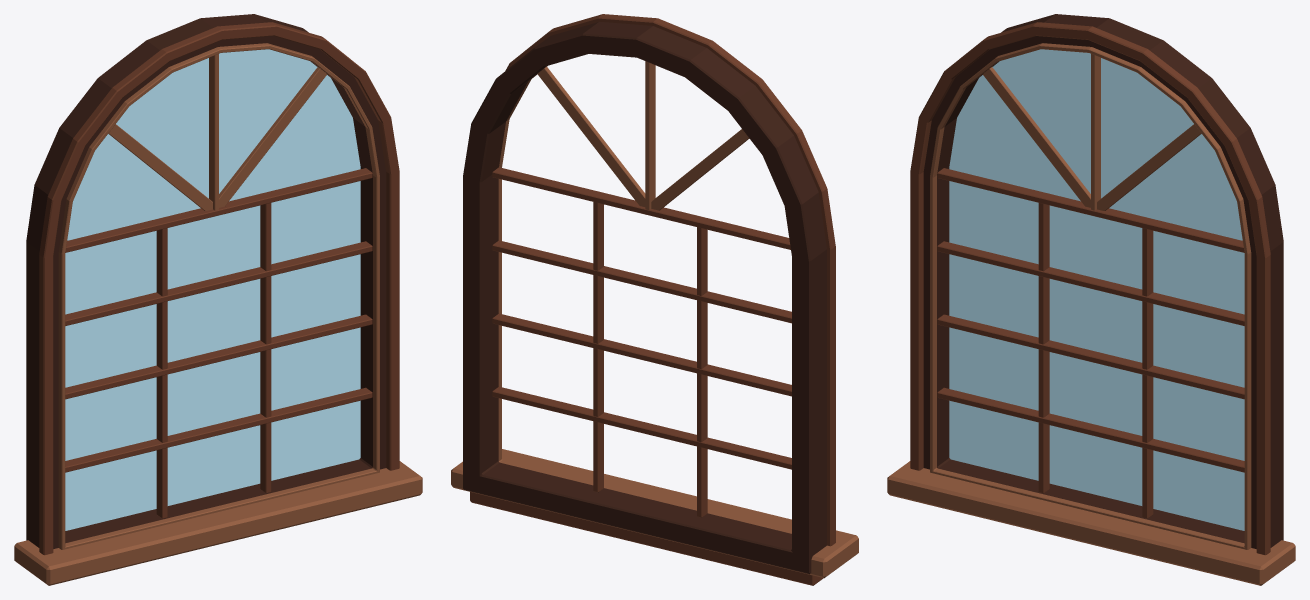
File: window_07.glb
3 renders of one model, left to right at view 1: azimuth 30°, elevation 25°; view 2: azimuth 150°, elevation 25°; view 3: azimuth 330°, elevation 25°, orthographic.
Visible parts, largest first — view 1: Glass, Deep_frame, Raised_moulding, Sill, Inner_bead, Transom_2, Transom_1, Transom_3, Transom_4, Mullion_2, Mullion_1, Fan_ray_1 (+2 smaller); view 2: Deep_frame, Raised_moulding, Sill, Sill_apron, Transom_2, Transom_1, Transom_3, Transom_4, Mullion_2, Mullion_1, Inner_bead, Fan_ray_1 (+2 smaller); view 3: Glass, Deep_frame, Raised_moulding, Sill, Inner_bead, Transom_2, Transom_1, Transom_3, Transom_4, Mullion_1, Mullion_2, Fan_ray_3 (+2 smaller).
Part boxes in pixels (x1,y1,x2,y2): Glass: (65, 49, 360, 530); Deep_frame: (26, 14, 386, 548); Raised_moulding: (39, 22, 399, 555); Sill: (14, 461, 422, 585); Inner_bead: (58, 43, 379, 549); Transom_2: (65, 314, 372, 399); Transom_1: (65, 387, 372, 472); Transom_3: (65, 241, 372, 325); Transom_4: (65, 168, 372, 252); Mullion_2: (260, 203, 271, 493); Mullion_1: (156, 228, 167, 518); Fan_ray_1: (212, 67, 327, 208); Deep_frame: (463, 21, 826, 574); Raised_moulding: (505, 14, 835, 546); Sill: (451, 449, 858, 578); Sill_apron: (470, 492, 823, 585); Transom_2: (492, 313, 791, 396); Transom_1: (492, 386, 791, 469); Transom_3: (492, 240, 791, 323); Transom_4: (492, 167, 790, 249); Mullion_2: (593, 202, 603, 492); Mullion_1: (697, 227, 707, 517); Inner_bead: (498, 66, 791, 533); Fan_ray_1: (537, 66, 645, 206); Glass: (949, 49, 1244, 530); Deep_frame: (923, 14, 1283, 548); Raised_moulding: (910, 22, 1270, 555); Sill: (887, 461, 1295, 585); Inner_bead: (930, 43, 1251, 549); Transom_2: (937, 314, 1244, 399); Transom_1: (937, 387, 1244, 472); Transom_3: (937, 241, 1244, 325); Transom_4: (937, 168, 1244, 252); Mullion_1: (1038, 203, 1049, 493); Mullion_2: (1142, 228, 1153, 518); Fan_ray_3: (982, 67, 1090, 207).
Size of the model in its own units: 2.42 by 3.17 by 0.405.
